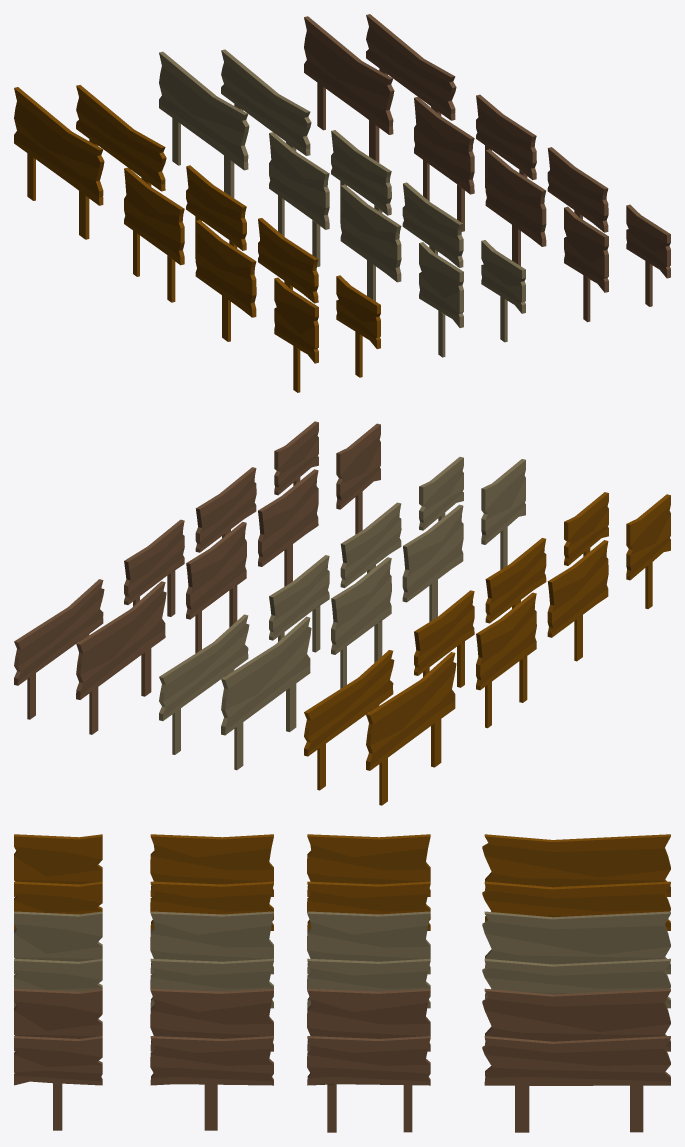
The model's file is WoodSigns.glb.
3 views of the same model, one above another, from view 1: azimuth 30°, elevation 25°; view 2: azimuth 150°, elevation 25°; view 3: azimuth 270°, elevation 25° (orthographic). The views are drawn at different scales.
Parts seen in each view (by area): view 1: Cube.152, Cube.144, Cube.135, Cube.151, Cube.143, Cube.140, Cube.131, Cube.148, Cube.134, Cube.150, Cube.133, Cube.142 (+12 smaller); view 2: Cube.135, Cube.144, Cube.152, Cube.131, Cube.140, Cube.148, Cube.151, Cube.134, Cube.143, Cube.150, Cube.142, Cube.133 (+12 smaller); view 3: Cube.131, Cube.135, Cube.144, Cube.152, Cube.130, Cube.122, Cube.133, Cube.134, Cube.143, Cube.142, Cube.151, Cube.150 (+12 smaller).
Boxes of the visible parts, <box> form: Cube.152: <box>14,87,104,239</box>; Cube.144: <box>159,51,249,197</box>; Cube.135: <box>304,16,394,162</box>; Cube.151: <box>124,167,184,302</box>; Cube.143: <box>269,132,329,266</box>; Cube.140: <box>221,49,311,155</box>; Cube.131: <box>366,14,456,120</box>; Cube.148: <box>76,85,166,191</box>; Cube.134: <box>414,97,474,231</box>; Cube.150: <box>195,220,256,341</box>; Cube.133: <box>485,149,546,265</box>; Cube.142: <box>340,184,401,301</box>; Cube.135: <box>76,581,166,734</box>; Cube.144: <box>221,616,311,770</box>; Cube.152: <box>366,652,456,805</box>; Cube.131: <box>14,579,104,719</box>; Cube.140: <box>159,614,249,754</box>; Cube.148: <box>304,650,394,790</box>; Cube.151: <box>476,592,536,728</box>; Cube.134: <box>186,522,246,653</box>; Cube.143: <box>331,557,391,688</box>; Cube.150: <box>547,540,608,661</box>; Cube.142: <box>402,504,463,621</box>; Cube.133: <box>258,469,318,586</box>; Cube.131: <box>482,1036,670,1132</box>; Cube.135: <box>482,988,670,1051</box>; Cube.144: <box>482,911,670,974</box>; Cube.152: <box>482,834,670,896</box>; Cube.130: <box>307,1036,430,1132</box>; Cube.122: <box>150,1036,273,1130</box>; Cube.133: <box>150,988,273,1051</box>; Cube.134: <box>307,988,430,1051</box>; Cube.143: <box>307,911,430,974</box>; Cube.142: <box>150,911,273,974</box>; Cube.151: <box>307,834,430,896</box>; Cube.150: <box>150,834,273,896</box>.
Size of the model in its own units: 17.2 by 4.6 by 25.16.
